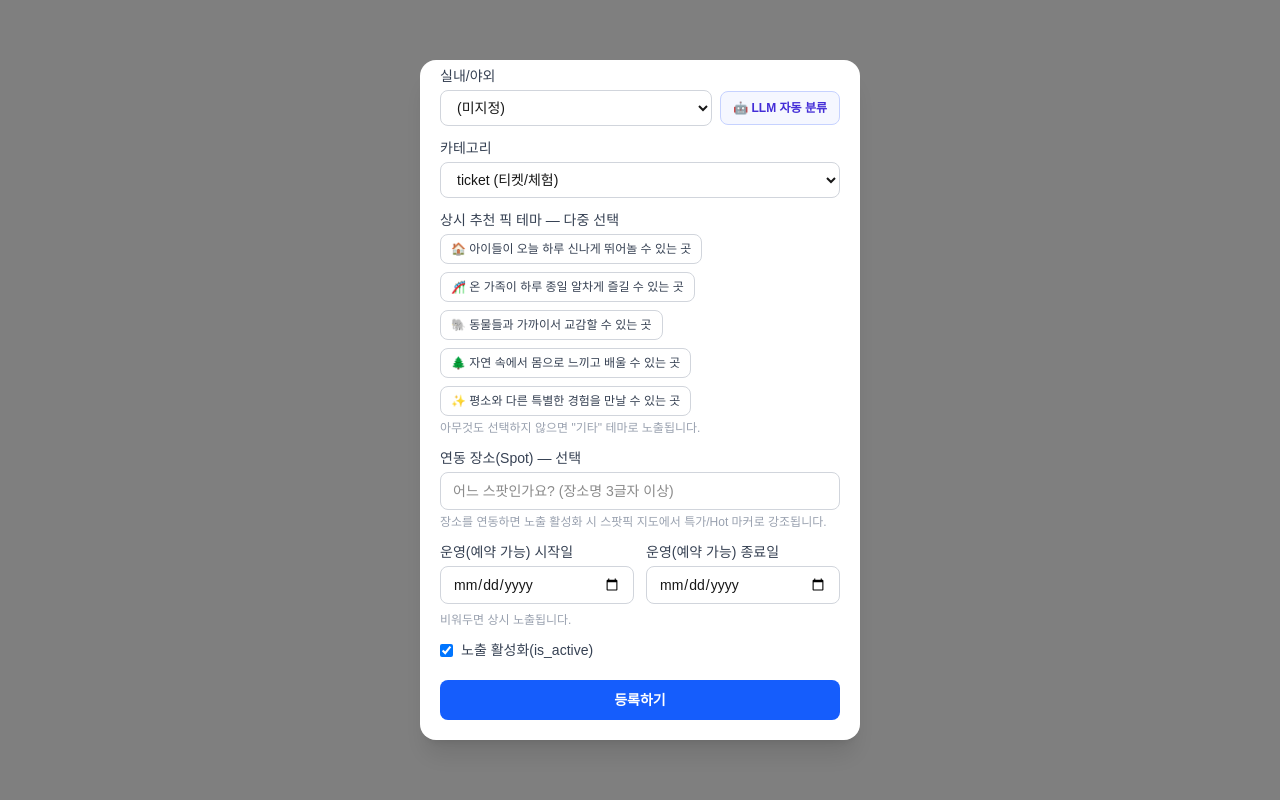
Test case: CuratedItemFormModal — 연동 장소(Spot) › 노출 중분류 확인/입력(2026-09-13) › 경고에서 노출 중분류를 선택하고 저장하면 초록 배지로 바뀐다
(page scrolled)
Type "숲속 놀이터" into the field with placeholder "어느 스팟인가요? (장소명 3글자 이상)". click: {"x": 640, "y": 491}
box: [440, 472, 840, 510]
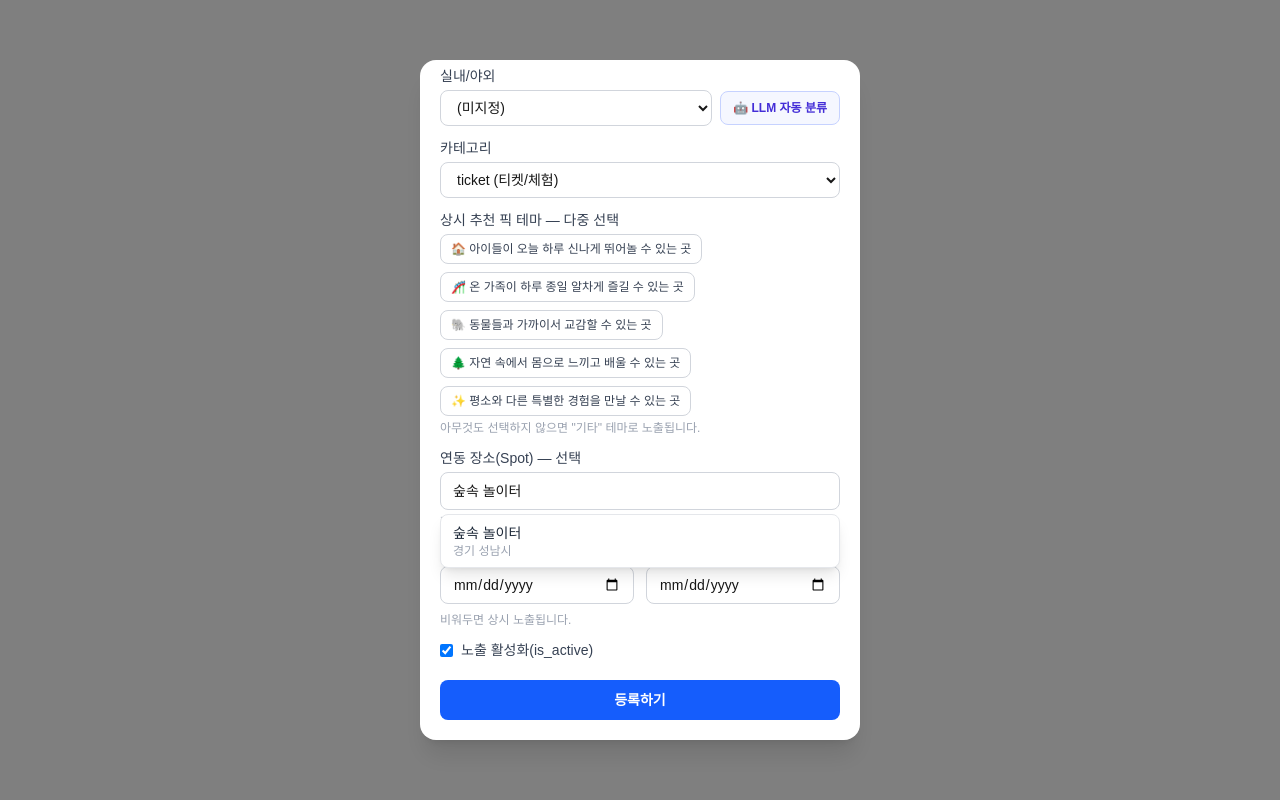
Press the mouse on the text "숲속 놀이터" at {"x": 487, "y": 533}, box [453, 525, 521, 541]
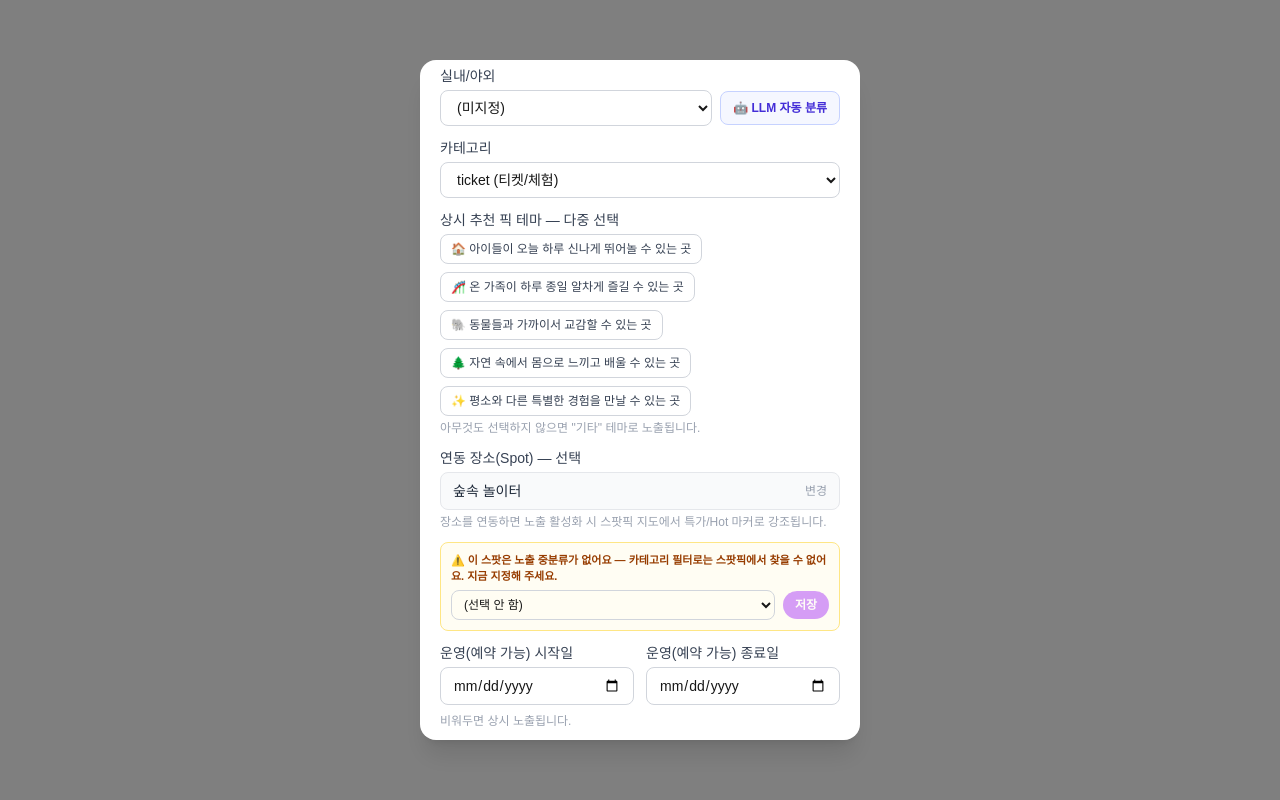
Expected: the text "⚠️ 이 스팟은 노출 중분류가 없어요 — 카테고리 필터로는 스팟픽에서 찾을 수 없어요. 지금 지정해 주세요." is shown, [451, 553, 829, 584]
Select "체험 > 생태학습" in the dropdown showing "(선택 안 함)" below "숲속 놀이터". click: {"x": 613, "y": 605}
box: [451, 590, 775, 620]
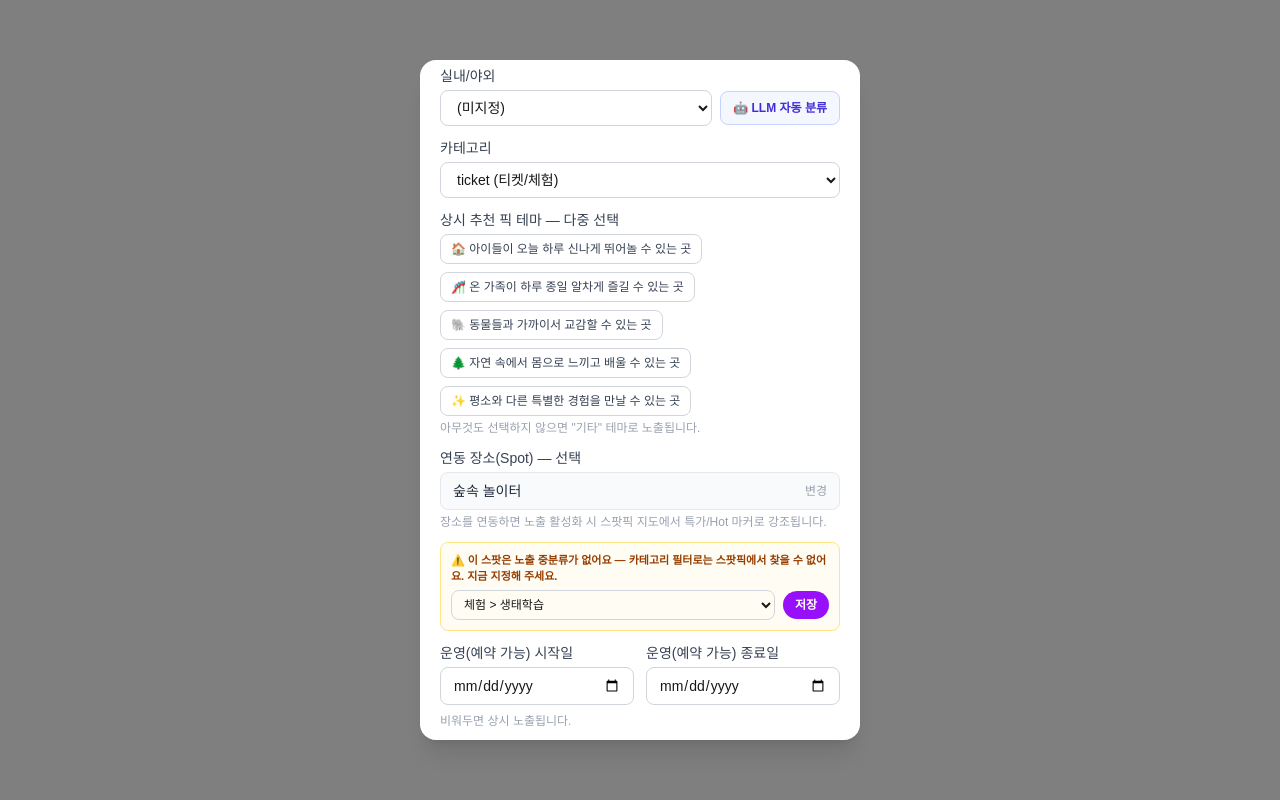
Click the button "저장". click: {"x": 806, "y": 605}
box: [783, 591, 829, 619]
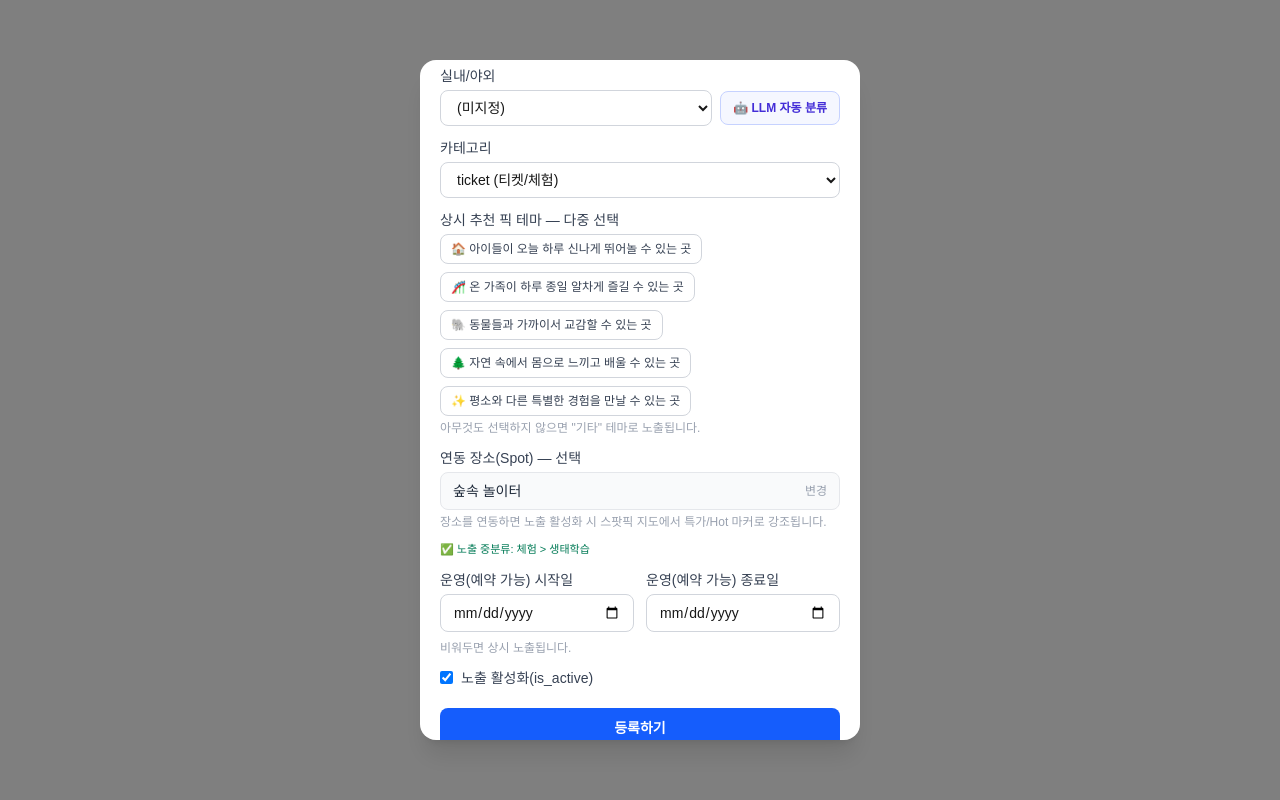
Expected: the text "✅ 노출 중분류: 체험 > 생태학습" is shown, [440, 543, 590, 555]
Expected: the text "노출 중분류가 없어요" is gone
